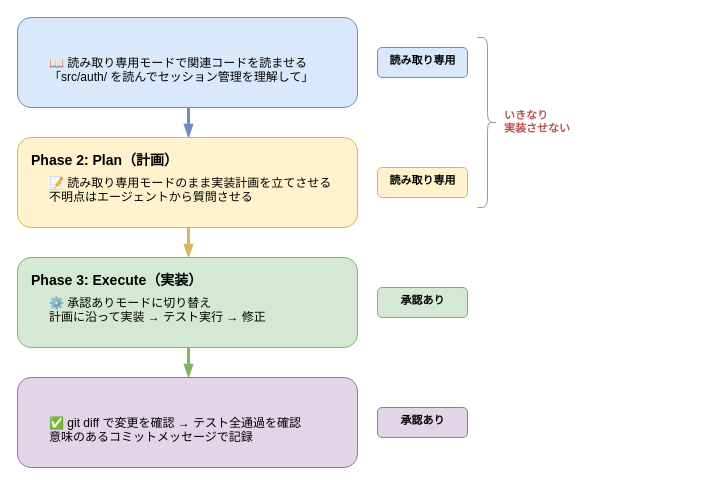
Image size: 705x485. Some labels were removed from this diagram. The shapes that lost their labels are listed below. From the top down, each one's centre as x and y in pixels, then its label:
[187,62]: Phase 1: Explore（探索）
[187,422]: Phase 4: Commit（確定）
